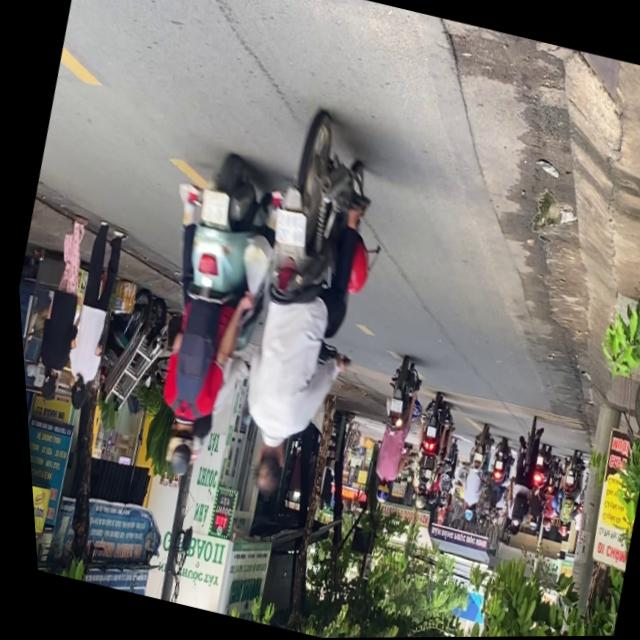helmet: (149, 416, 196, 479)
licenseplate: (193, 107, 415, 511), (107, 141, 304, 491)
motorcyclist: (237, 434, 285, 496)
nohelmet: (266, 208, 307, 250), (192, 188, 229, 226)
